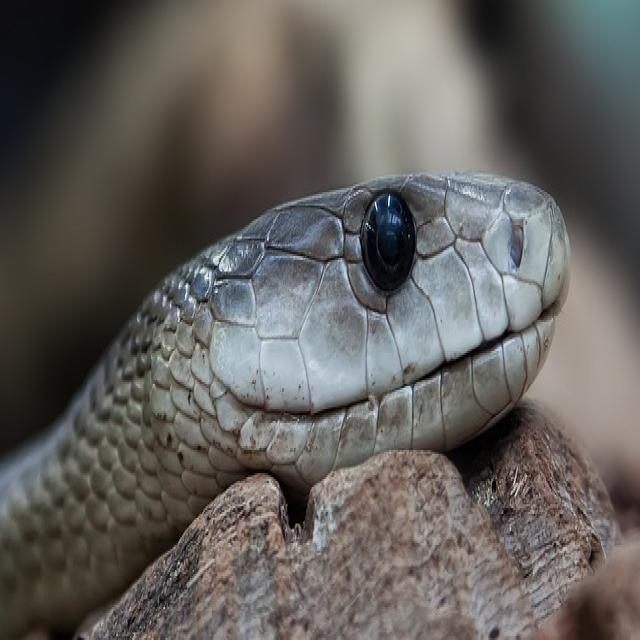Carnivorous: (0, 173, 570, 640)
